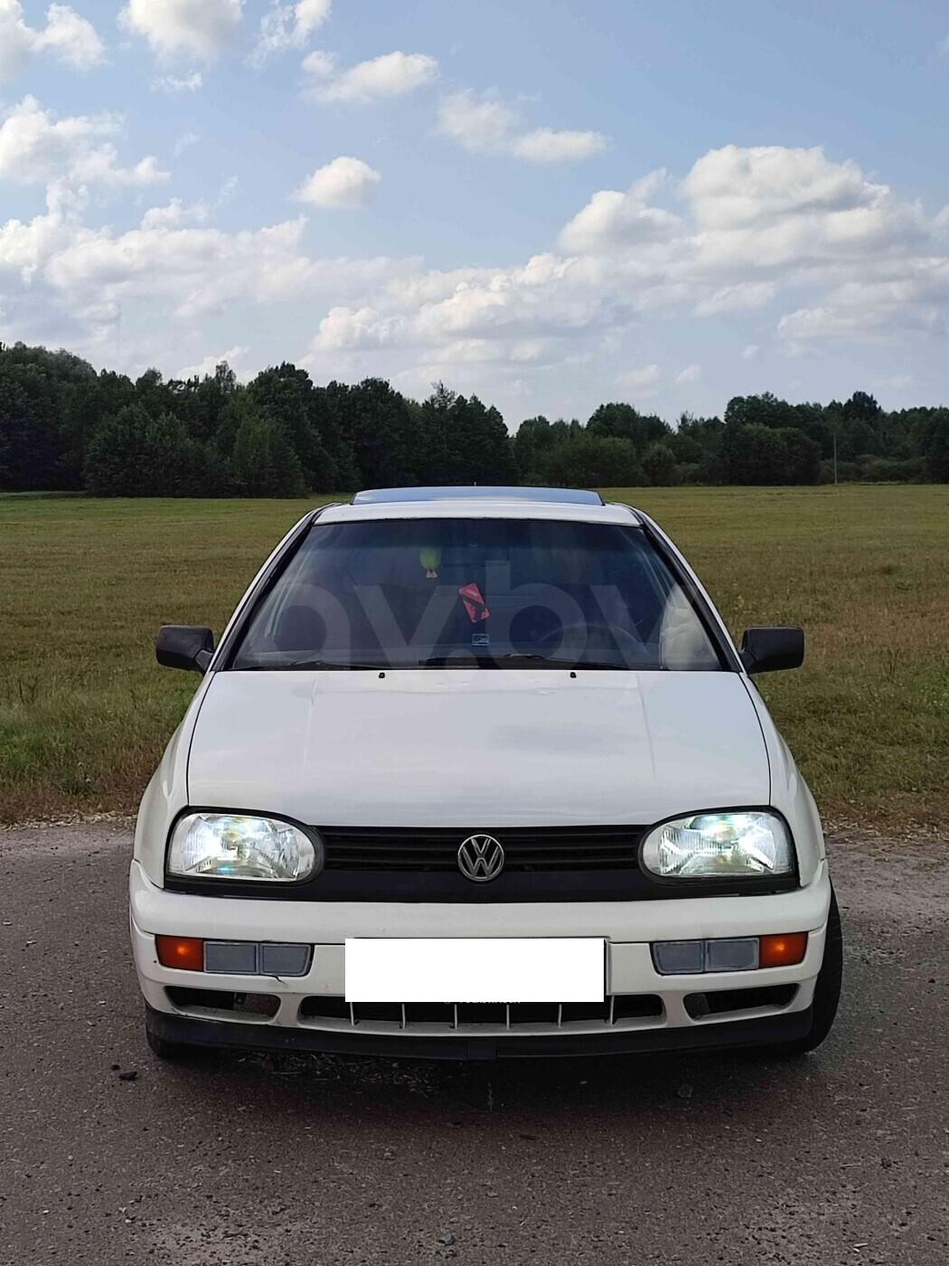Golf_1991-2000: (120, 491, 861, 1058)
